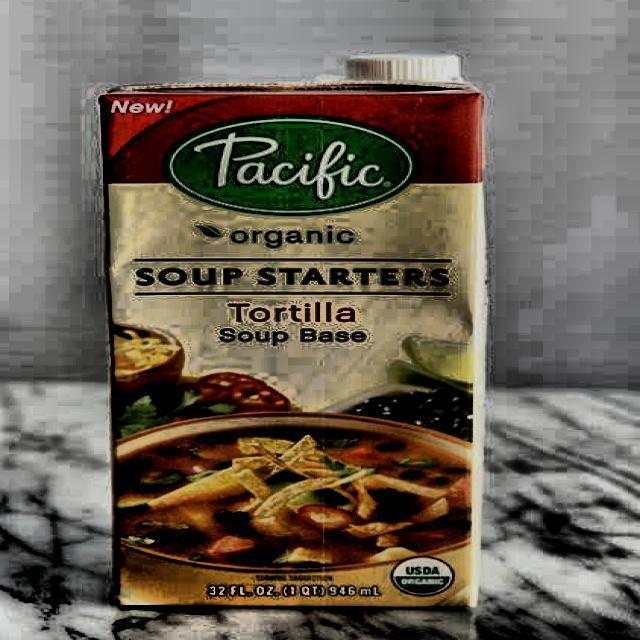cardboard: (99, 64, 486, 608)
